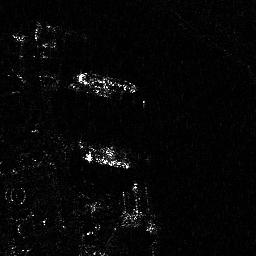ship: (75, 71, 136, 95)
